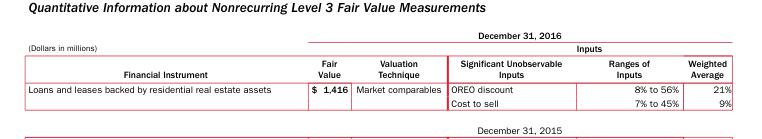table: (27, 28, 730, 107)
table column: (27, 28, 290, 107), (445, 28, 584, 107), (584, 28, 682, 107), (351, 28, 445, 107), (290, 28, 351, 107), (682, 28, 730, 107)
table column header: (27, 28, 730, 81)
table row: (27, 55, 730, 81), (27, 41, 730, 55), (27, 81, 730, 95), (27, 28, 730, 41), (27, 95, 730, 107)
table spanning cell: (27, 28, 290, 81), (290, 28, 730, 41), (445, 41, 730, 55), (351, 41, 445, 81), (290, 41, 351, 81)
